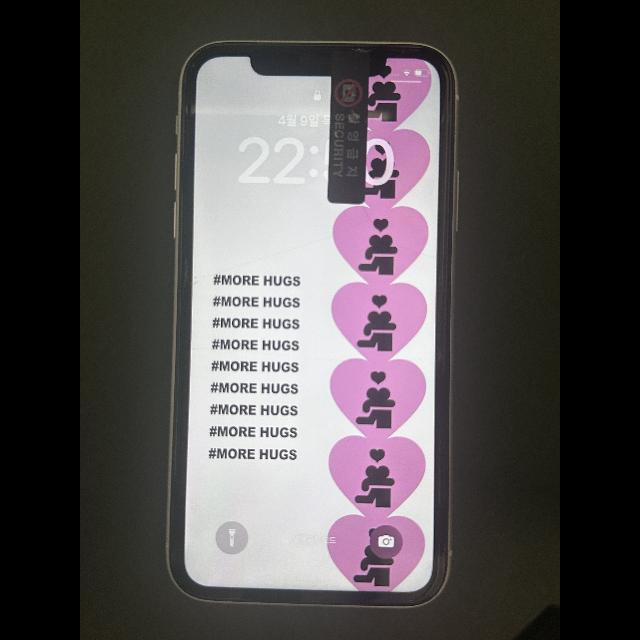phone: (165, 40, 459, 610)
sticker: (327, 50, 370, 205)
